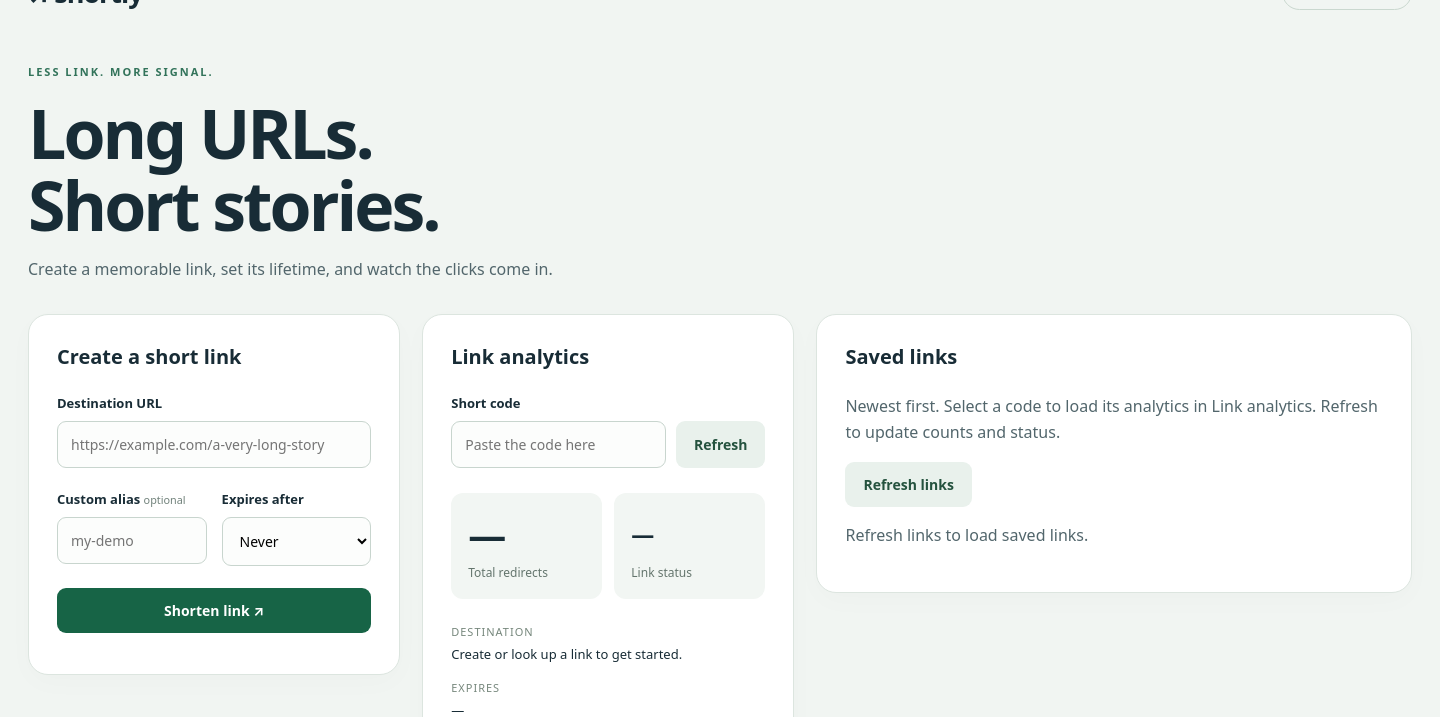
Test: React shortener workflows › requires refresh after an uncertain extension and does not retry automatically
This screenshot has width=1440, height=717.
Type "demo" into the field labelled "Short code".
click(559, 445); type("demo")  # box [451,421,666,468]
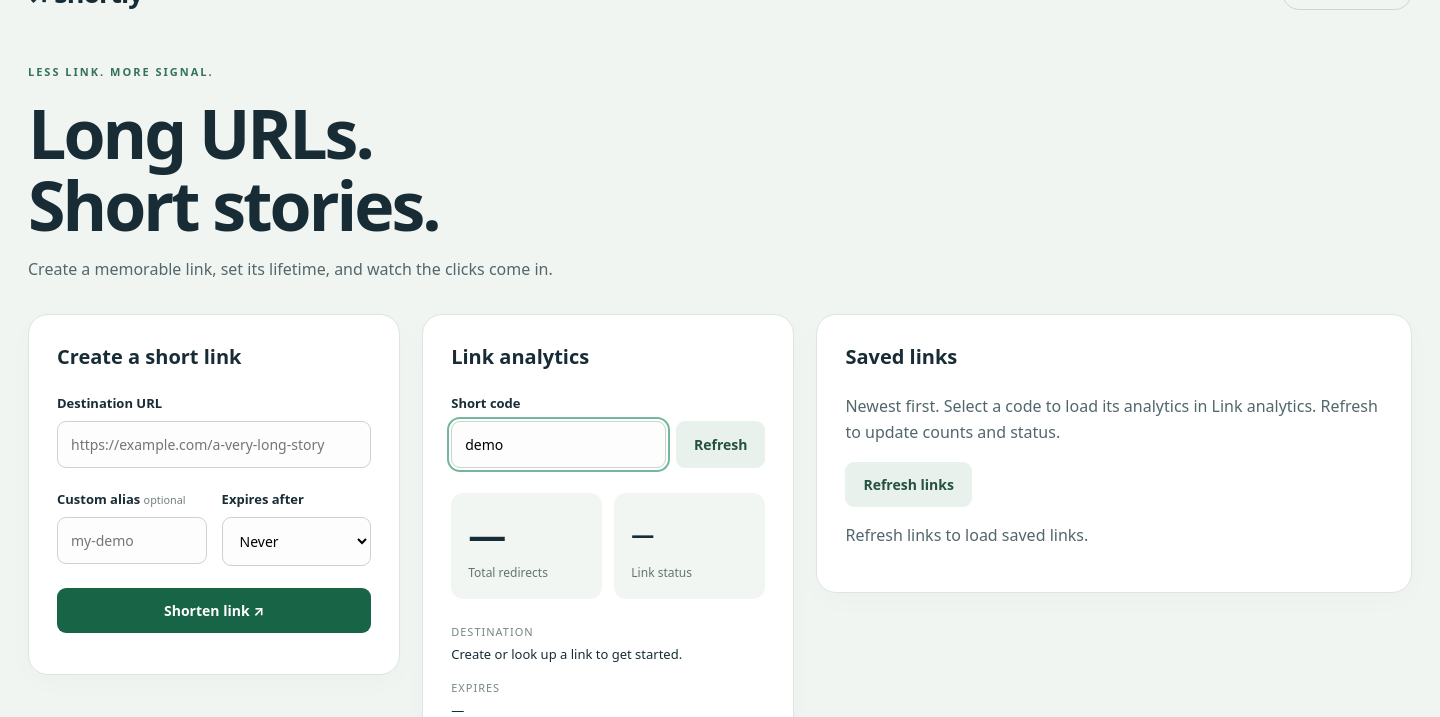
Click the button "Refresh".
click(721, 445)  # box [676,421,766,468]
(page scrolled)
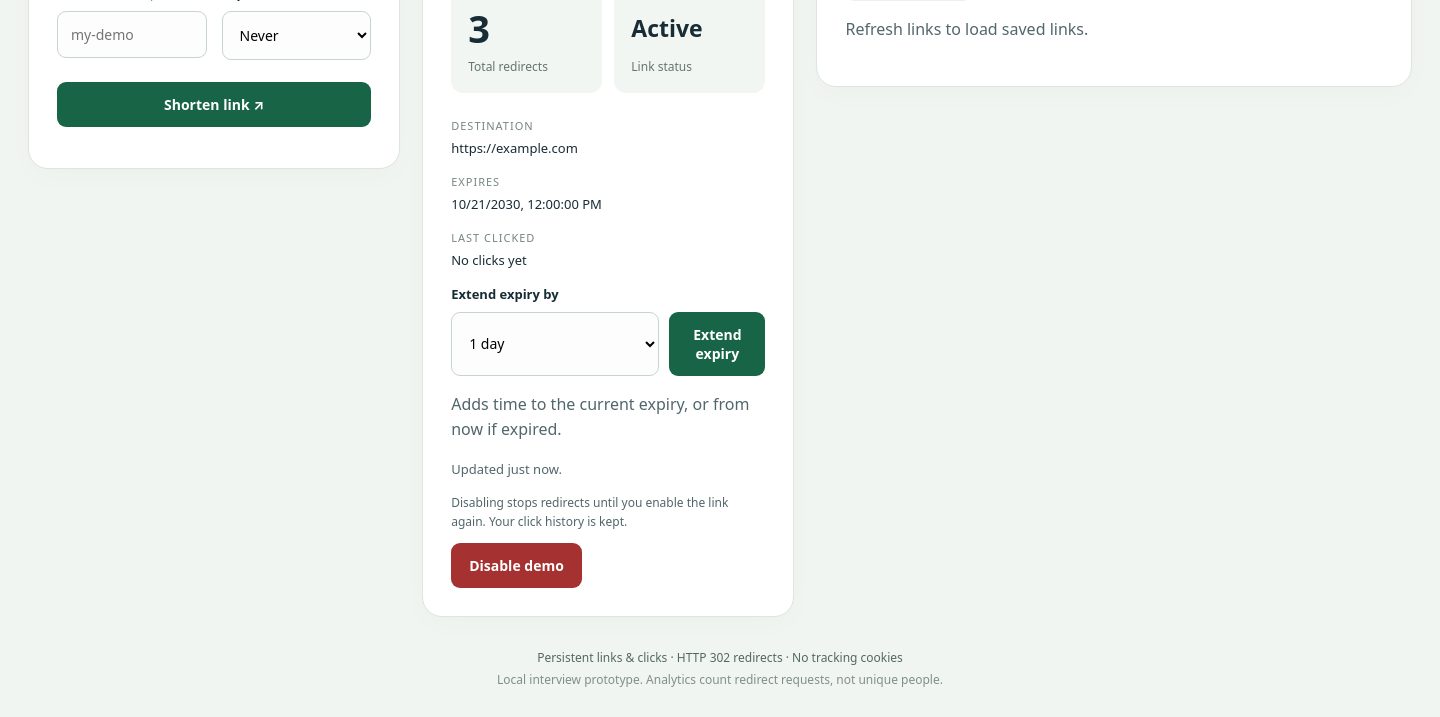
Check: the text "https://example.com" is shown, box [451,139,578,157]
Click the button "Extend expiry".
click(717, 344)  # box [669,312,765,376]
(page scrolled)
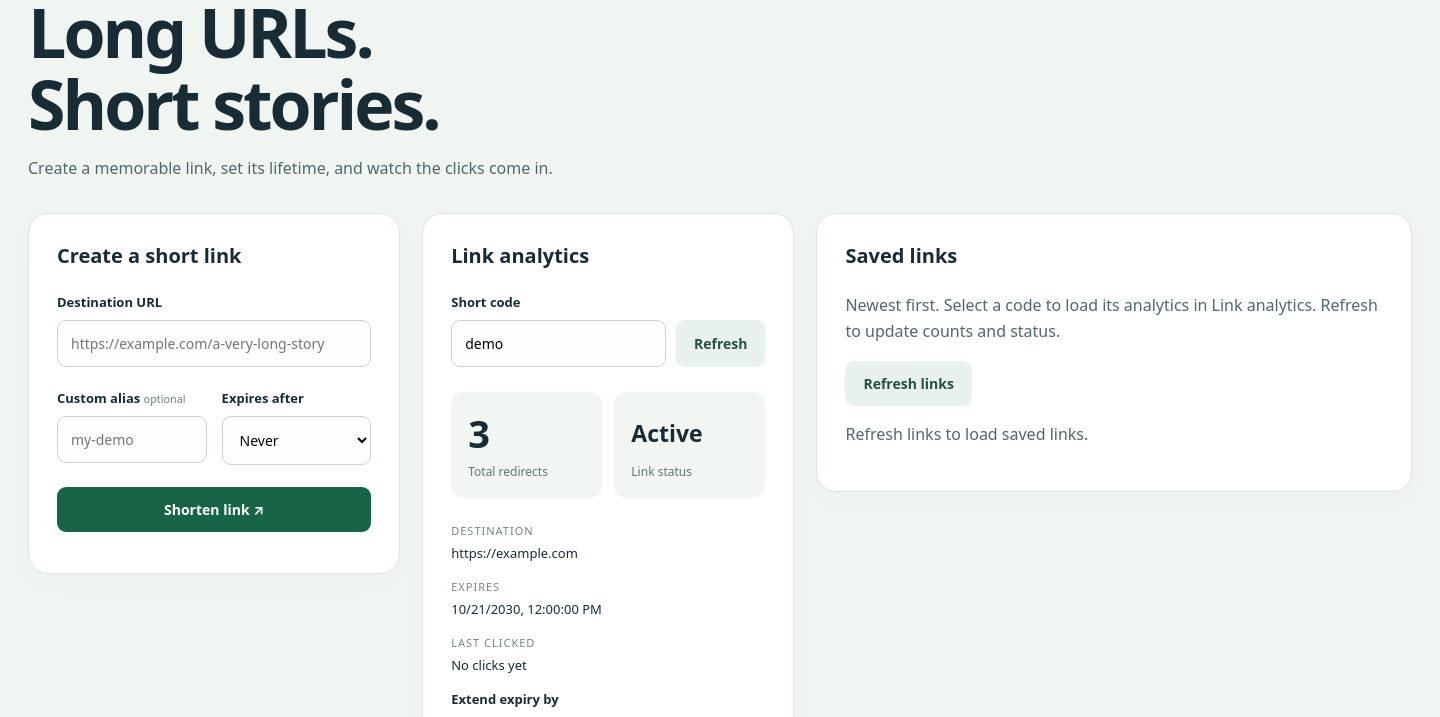
Click the button "Refresh".
click(721, 344)  # box [676,320,766,367]
(page scrolled)
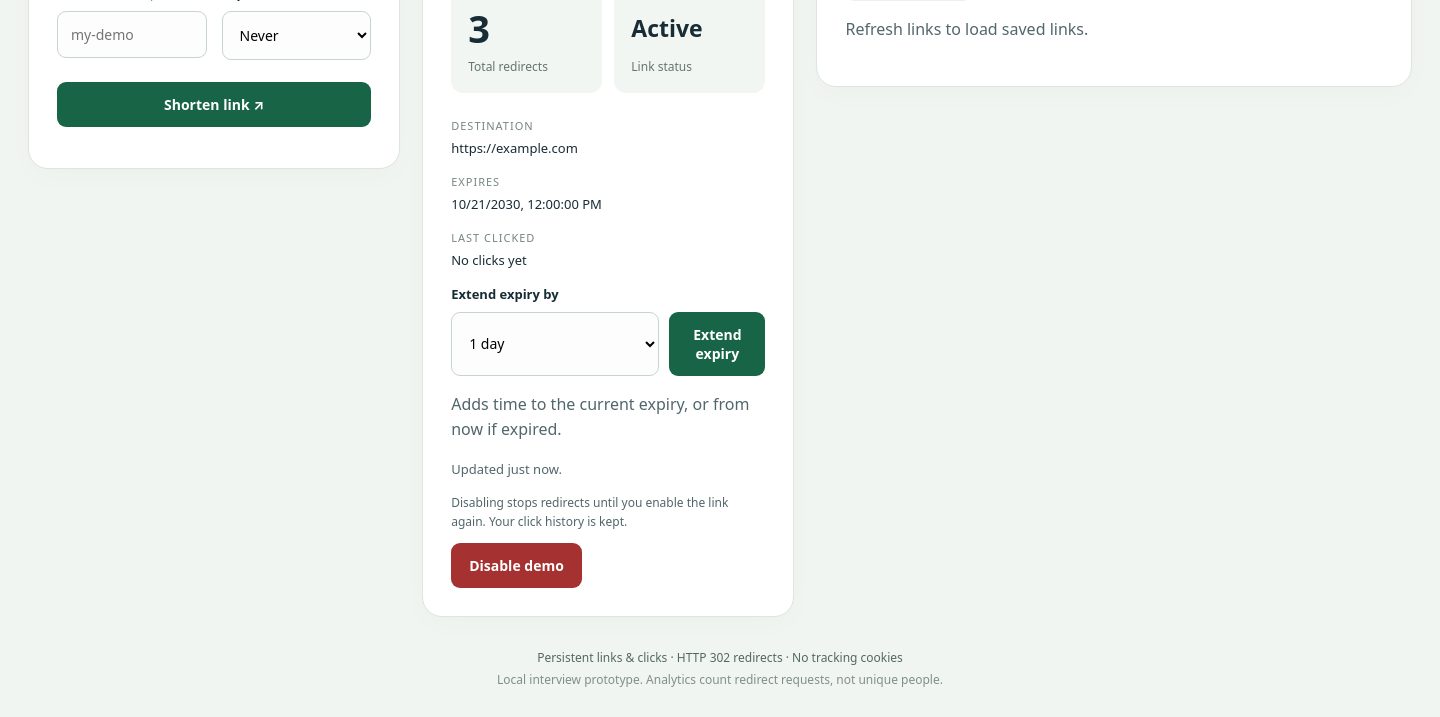
Check: the button "Extend expiry" is enabled, box [669,312,765,376]
